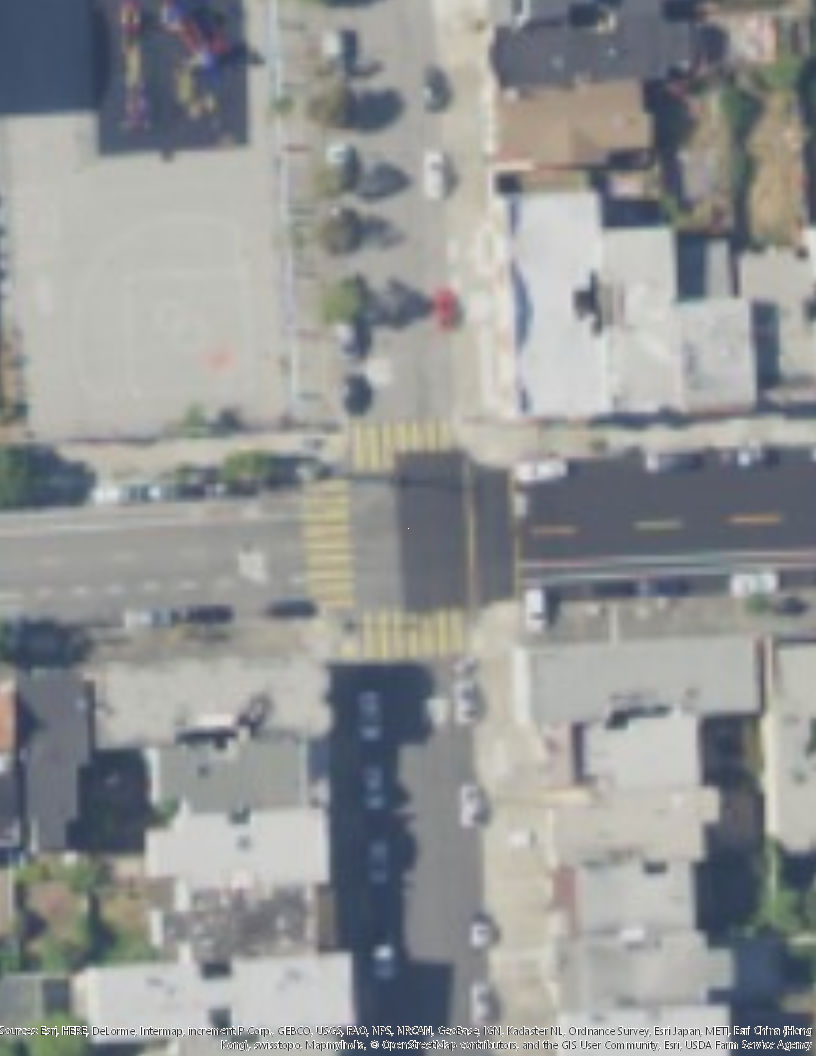zebracross: (303, 481, 354, 612), (345, 424, 466, 479), (356, 612, 466, 660)
